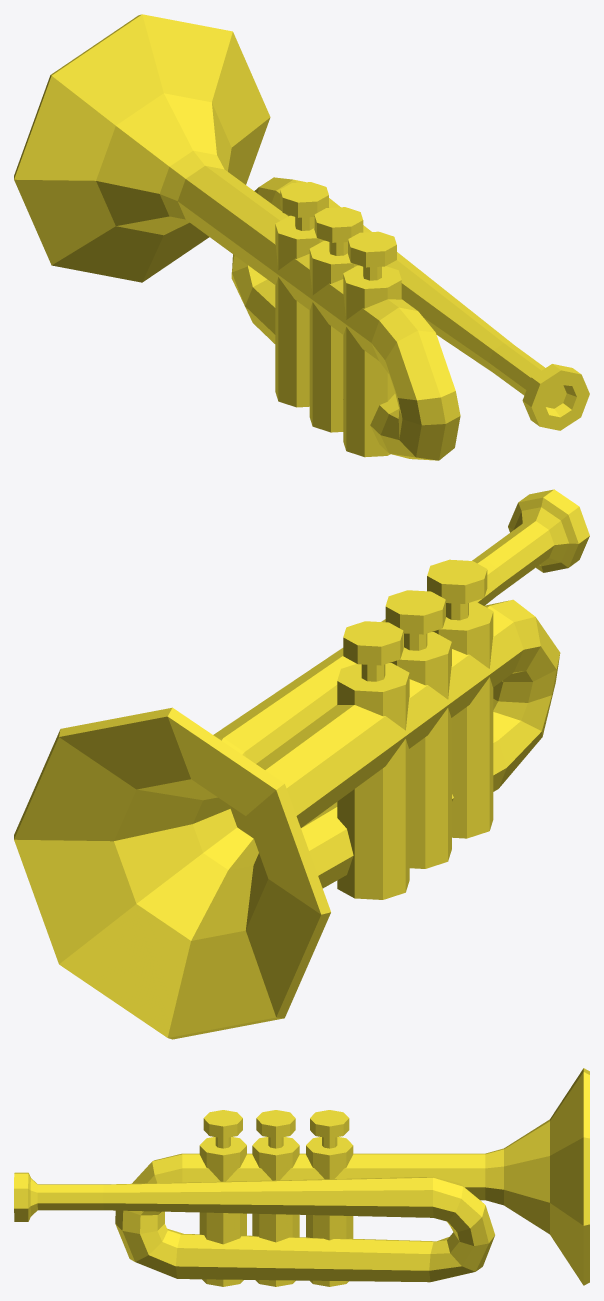
The model's file is Trumpet.glb.
The picture shows the model from 3 angles, top to bottom: view 1: azimuth 30°, elevation 25°; view 2: azimuth 150°, elevation 25°; view 3: azimuth 270°, elevation 25°; orthographic projection. The views are drawn at different scales.
Parts seen in each view (by area): view 1: trumpet_Circle.006; view 2: trumpet_Circle.006; view 3: trumpet_Circle.006.
Boxes of the visible parts, bbox=[...] form: trumpet_Circle.006: bbox=[14, 14, 589, 460]; trumpet_Circle.006: bbox=[14, 489, 589, 1039]; trumpet_Circle.006: bbox=[14, 1068, 589, 1286].
Bounding box in the file's own units: 7.24 × 7.24 × 17.99.
